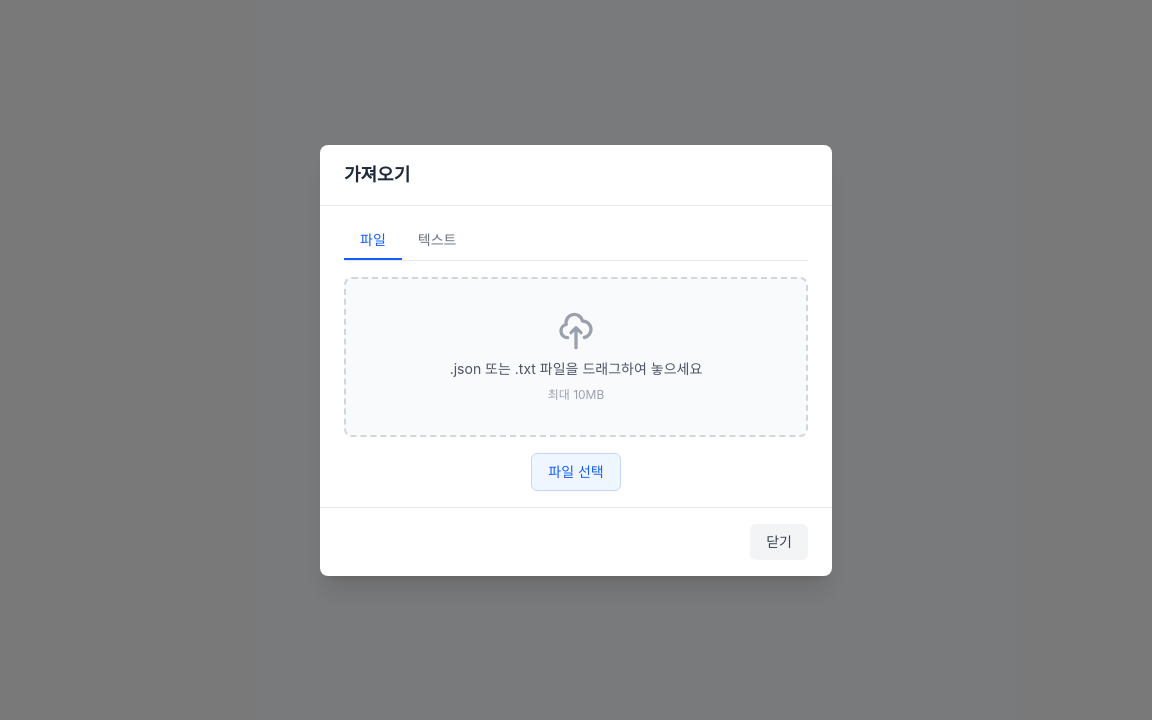
Test: ImportPanel › 탭 전환 동작 › "파일" 탭 클릭 시 드롭존 영역이 표시된다
# 먼저 텍스트 탭으로 전환
Click the button "텍스트" at (437, 240), box [402,222,472,260]
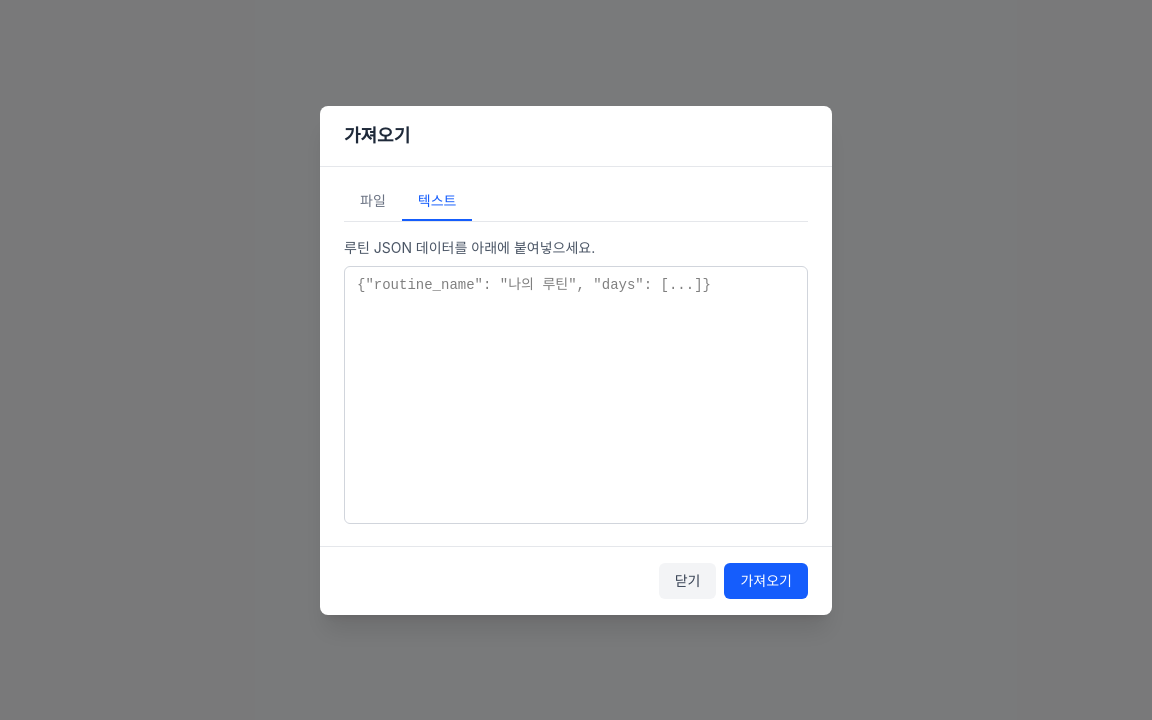
# 다시 파일 탭으로 전환
Click the button "파일" at (373, 202), box [344,182,402,220]
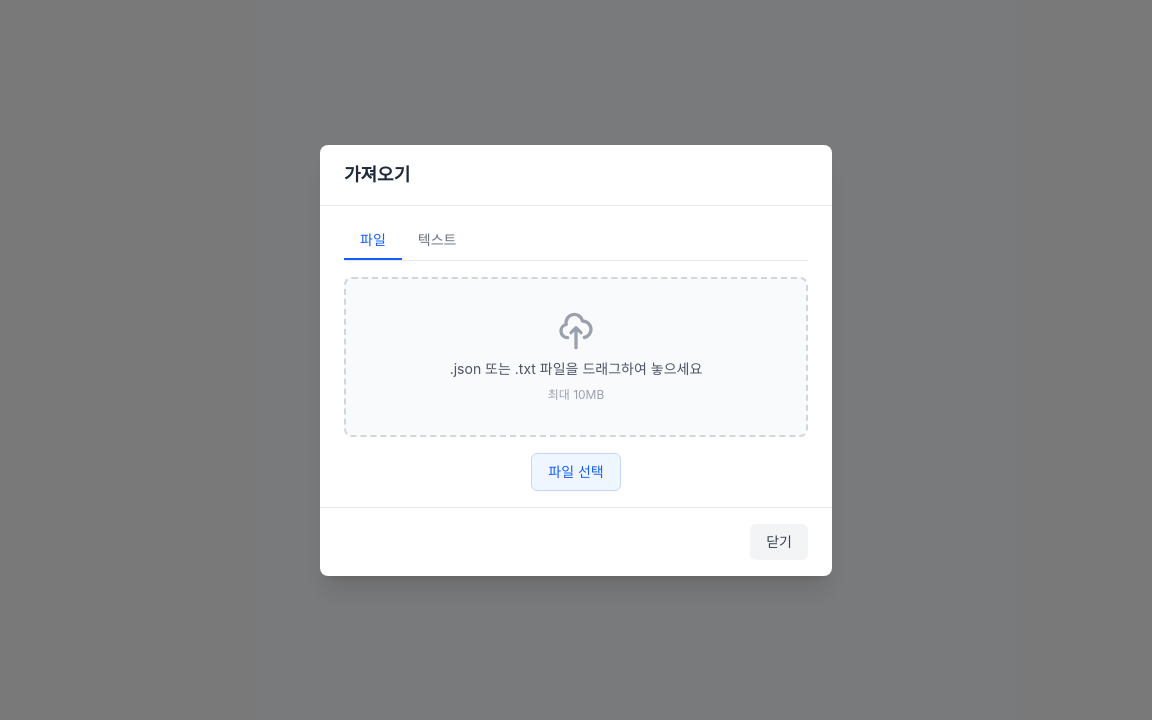
expect the text ".json 또는 .txt 파일을 드래그하여 놓으세요" is shown: met, box [450,358,702,378]
